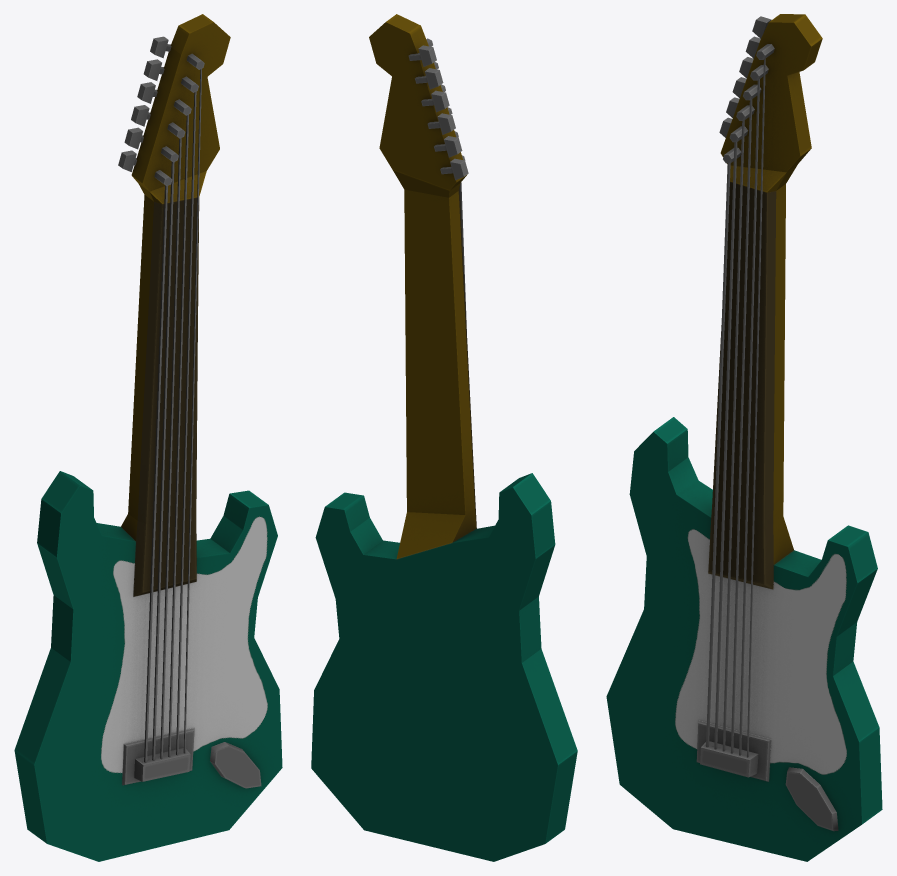
The model's file is ElectricGuitar.obj.
3 views of the same model, side by side, from view 1: azimuth 30°, elevation 25°; view 2: azimuth 150°, elevation 25°; view 3: azimuth 330°, elevation 25° (orthographic). The views are drawn at different scales.
Parts seen in each view (by area): view 1: ElectricGuitar_mesh; view 2: ElectricGuitar_mesh; view 3: ElectricGuitar_mesh.
Part boxes in pixels (bbox=[...]): ElectricGuitar_mesh: bbox=[14, 14, 282, 861]; ElectricGuitar_mesh: bbox=[311, 14, 577, 861]; ElectricGuitar_mesh: bbox=[606, 14, 882, 861].
Bounding box in the file's own units: 7.24 × 22.6 × 1.44.
Materials: 1 (1 with a texture image).
